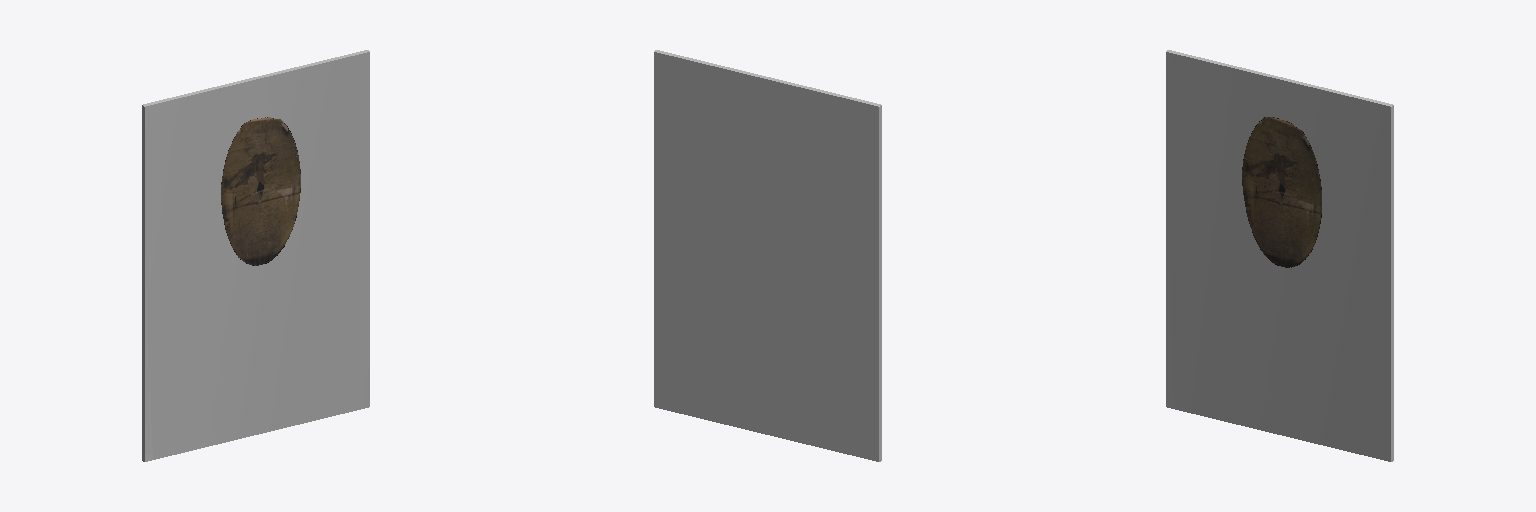
3 views of the same model, side by side, from view 1: azimuth 30°, elevation 25°; view 2: azimuth 150°, elevation 25°; view 3: azimuth 330°, elevation 25° (orthographic).
Visible parts, largest first — view 1: SketchUp.001_ID10, SketchUp_ID2; view 2: SketchUp_ID2; view 3: SketchUp.001_ID10, SketchUp_ID2.
Part boxes in pixels (x1,y1,x2,y2): SketchUp.001_ID10: (145, 52, 369, 461); SketchUp_ID2: (142, 50, 369, 461); SketchUp_ID2: (654, 50, 881, 461); SketchUp.001_ID10: (1166, 52, 1390, 461); SketchUp_ID2: (1166, 50, 1393, 461).
Bounding box in the file's own units: 188 × 283 × 3.94.
Materials: 2 (1 with a texture image).